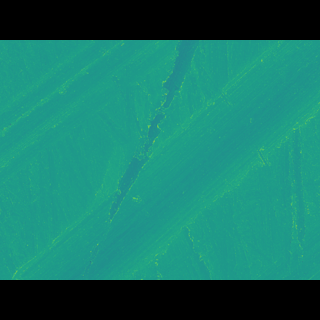Loch: (5, 69, 320, 250), (0, 69, 178, 178), (105, 68, 202, 216)
